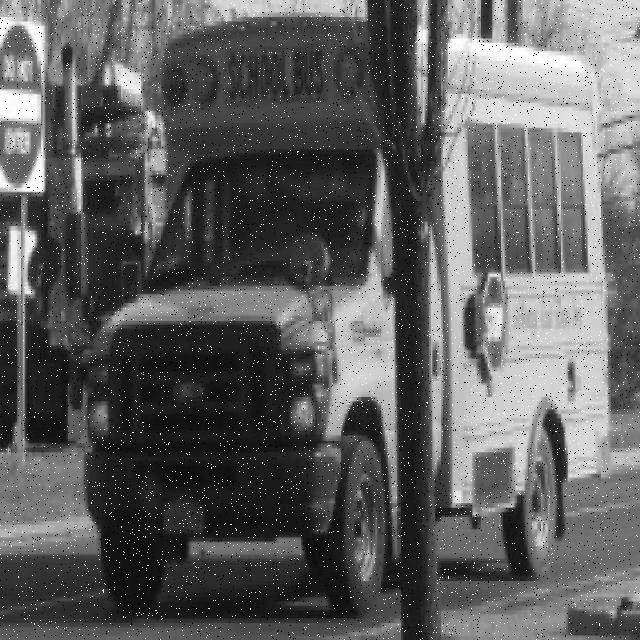Bus- Small: (84, 15, 611, 617)
